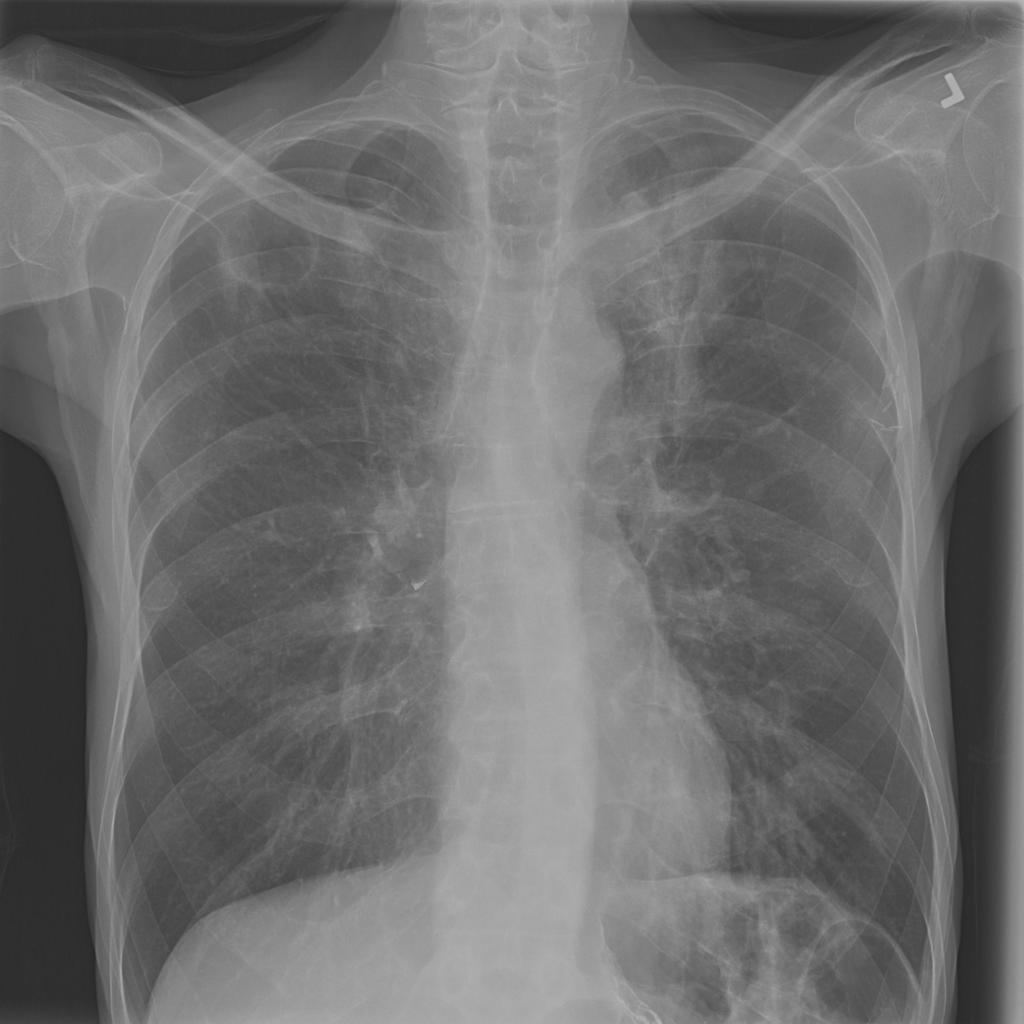nodule: (822, 400, 870, 455), (729, 463, 779, 514), (787, 585, 840, 632)
